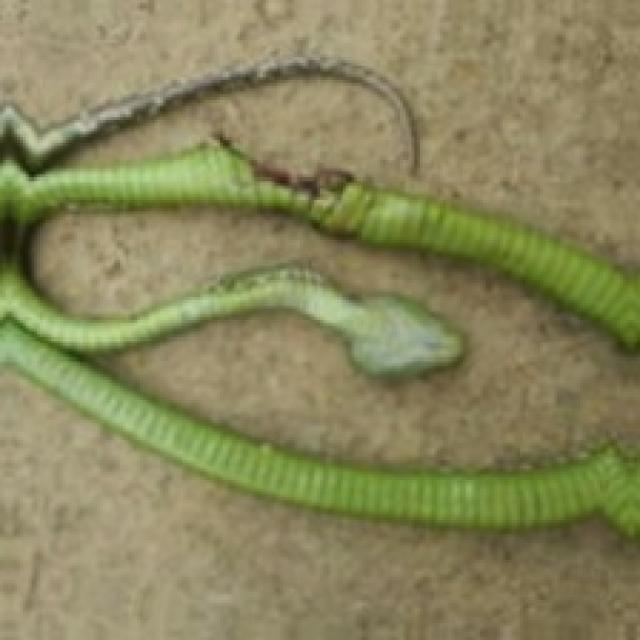philippine pitviper: (0, 57, 637, 534)
